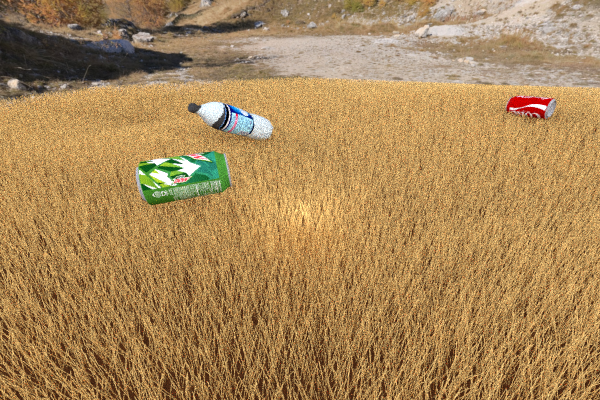bottle: (187, 101, 273, 140)
can: (135, 151, 231, 205), (505, 95, 556, 118)
